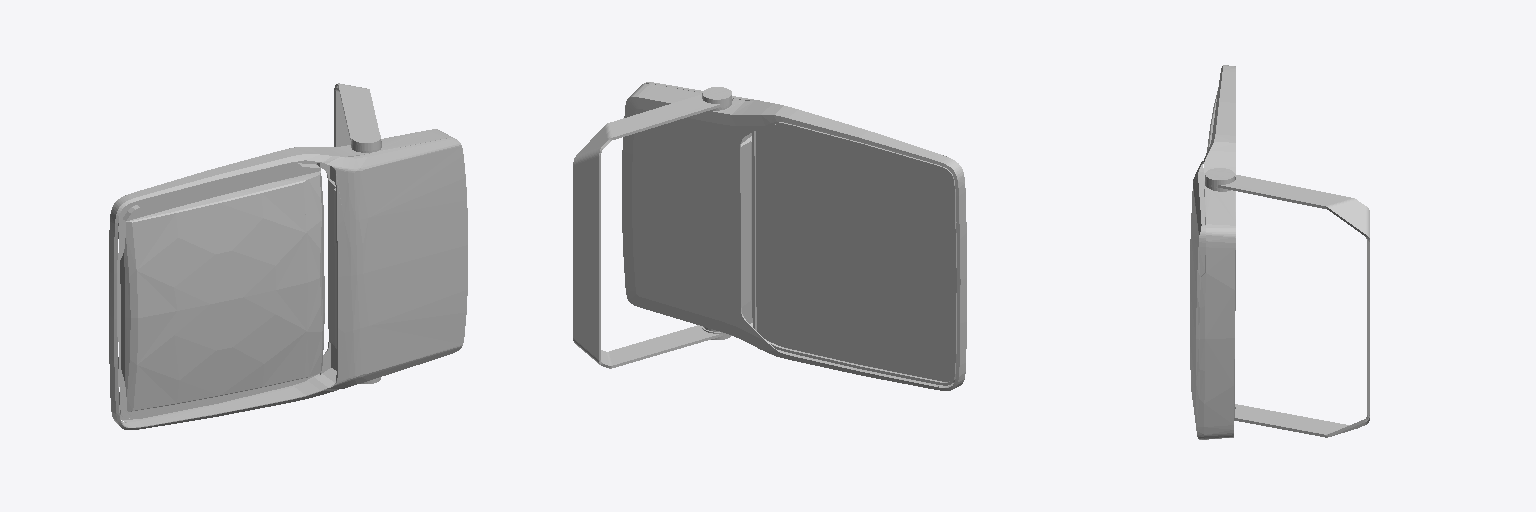
The model's file is Floodlight FL 20.obj.
The picture shows the model from 3 angles: view 1: azimuth 30°, elevation 25°; view 2: azimuth 150°, elevation 25°; view 3: azimuth 270°, elevation 25°; orthographic projection.
Visible parts, largest first — view 1: Siteco_Floodlight_FL_20_Floodlight_20_LED; view 2: Siteco_Floodlight_FL_20_Floodlight_20_LED; view 3: Siteco_Floodlight_FL_20_Floodlight_20_LED.
Boxes of the visible parts, x1,y1,x2,y2 form: Siteco_Floodlight_FL_20_Floodlight_20_LED: [109, 83, 467, 429]; Siteco_Floodlight_FL_20_Floodlight_20_LED: [573, 82, 966, 390]; Siteco_Floodlight_FL_20_Floodlight_20_LED: [1190, 65, 1369, 439].
Bounding box in the file's own units: 0.6519 × 0.447 × 0.299.